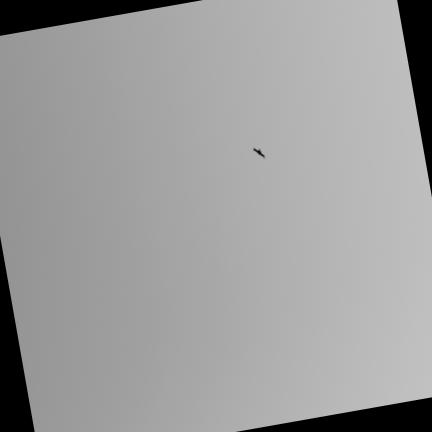Shahed: (252, 146, 266, 159)
